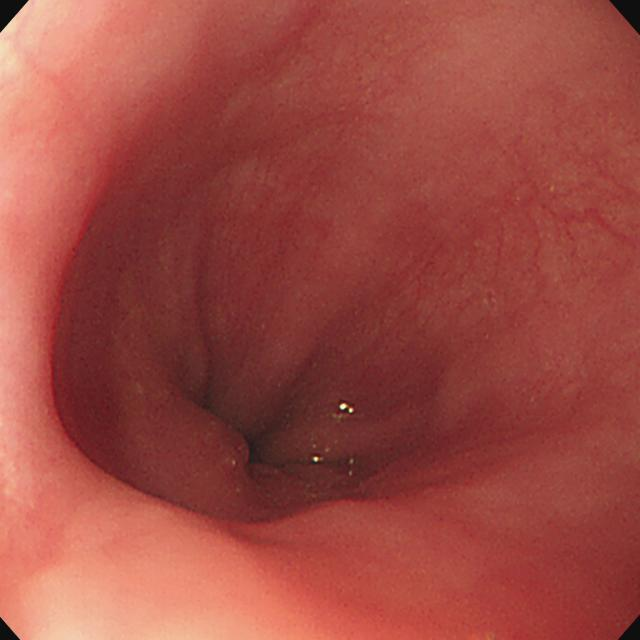I: (129, 246, 321, 492)
U: (340, 403, 356, 416)
